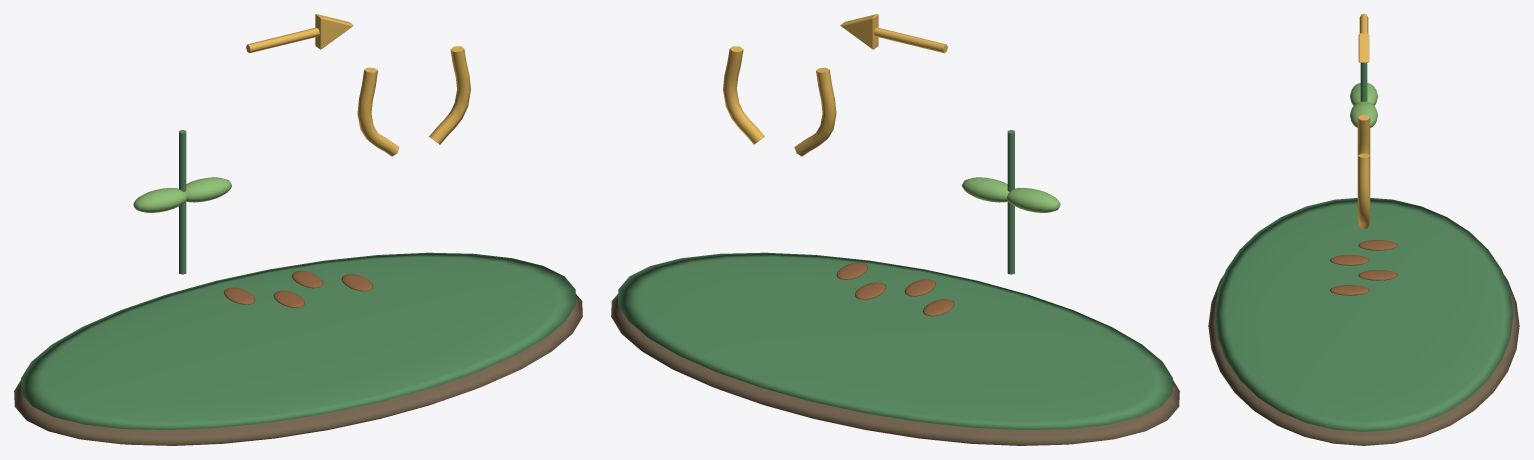
The model's file is complete-first-come-to-sprout.glb.
3 renders of one model, left to right at view 1: azimuth 30°, elevation 25°; view 2: azimuth 150°, elevation 25°; view 3: azimuth 270°, elevation 25°, orthographic. The views are drawn at different scales.
Parts seen in each view (by area): view 1: complete-first-come-to-sprout_surface_01, complete-first-come-to-sprout_surface_00, complete-first-come-to-sprout_surface_03, complete-first-come-to-sprout_surface_02, complete-first-come-to-sprout_surface_04; view 2: complete-first-come-to-sprout_surface_01, complete-first-come-to-sprout_surface_00, complete-first-come-to-sprout_surface_03, complete-first-come-to-sprout_surface_02, complete-first-come-to-sprout_surface_04; view 3: complete-first-come-to-sprout_surface_01, complete-first-come-to-sprout_surface_00, complete-first-come-to-sprout_surface_03, complete-first-come-to-sprout_surface_04, complete-first-come-to-sprout_surface_02.
Part boxes in pixels (bbox=[...]): complete-first-come-to-sprout_surface_01: bbox=[21, 130, 575, 429]; complete-first-come-to-sprout_surface_00: bbox=[14, 294, 582, 445]; complete-first-come-to-sprout_surface_03: bbox=[246, 14, 470, 156]; complete-first-come-to-sprout_surface_02: bbox=[133, 177, 231, 212]; complete-first-come-to-sprout_surface_04: bbox=[223, 271, 372, 307]; complete-first-come-to-sprout_surface_01: bbox=[618, 130, 1172, 429]; complete-first-come-to-sprout_surface_00: bbox=[611, 294, 1179, 445]; complete-first-come-to-sprout_surface_03: bbox=[723, 14, 947, 156]; complete-first-come-to-sprout_surface_02: bbox=[962, 177, 1060, 212]; complete-first-come-to-sprout_surface_04: bbox=[836, 262, 954, 316]; complete-first-come-to-sprout_surface_01: bbox=[1214, 63, 1513, 431]; complete-first-come-to-sprout_surface_00: bbox=[1208, 275, 1519, 445]; complete-first-come-to-sprout_surface_03: bbox=[1357, 14, 1370, 228]; complete-first-come-to-sprout_surface_04: bbox=[1330, 240, 1397, 295]; complete-first-come-to-sprout_surface_02: bbox=[1350, 83, 1377, 127].
Size of the model in its own units: 4.56 by 2.8 by 2.5.
